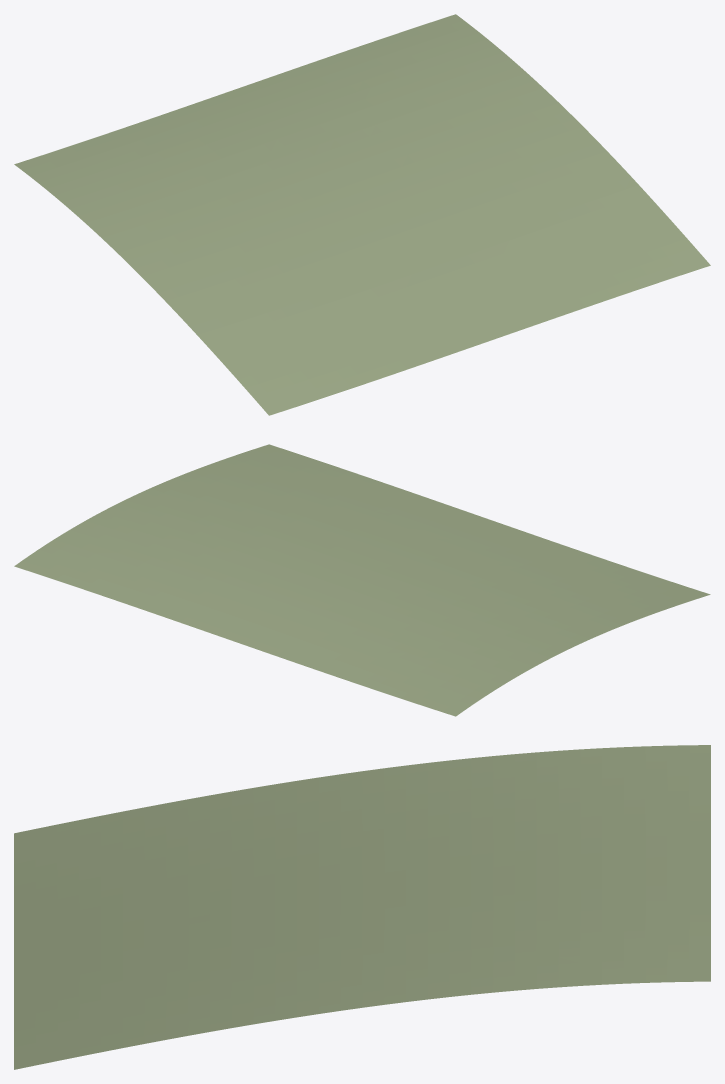
The model's file is valley-5-1.glb.
3 views of the same model, one above another, from view 1: azimuth 30°, elevation 25°; view 2: azimuth 150°, elevation 25°; view 3: azimuth 270°, elevation 25° (orthographic). The views are drawn at different scales.
Parts seen in each view (by area): view 1: valley-5-1; view 2: valley-5-1; view 3: valley-5-1.
Boxes of the visible parts, x1,y1,x2,y2 form: valley-5-1: (14,14,710,415); valley-5-1: (14,444,710,716); valley-5-1: (14,745,710,1069).
Size of the model in its own units: 256 by 59.29 by 256.
